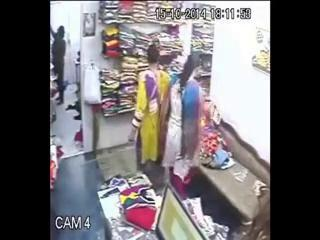shoplifting: (164, 44, 212, 178)
